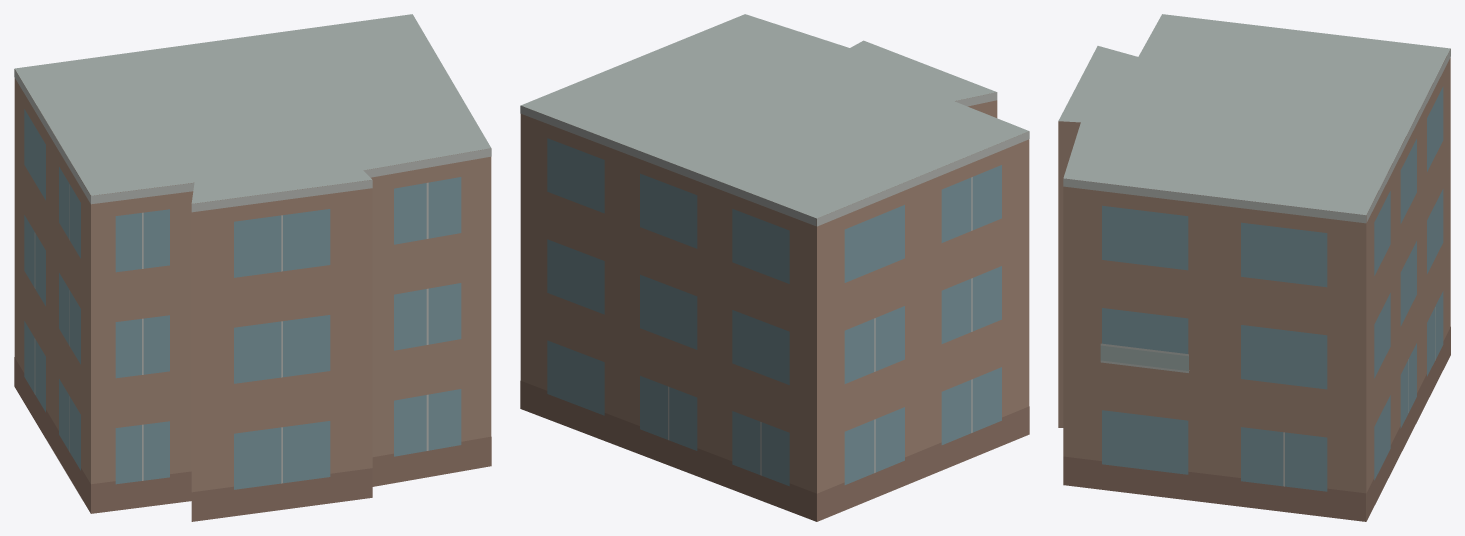
Rendered from survey-upis-32532660.glb.
3 renders of one model, left to right at view 1: azimuth 30°, elevation 25°; view 2: azimuth 150°, elevation 25°; view 3: azimuth 270°, elevation 25°, orthographic. The views are drawn at different scales.
Parts seen in each view (by area): view 1: survey-upis-32532660.tmp; view 2: survey-upis-32532660.tmp; view 3: survey-upis-32532660.tmp.
Boxes of the visible parts, x1=… form: survey-upis-32532660.tmp: x1=14, y1=14, x2=491, y2=521; survey-upis-32532660.tmp: x1=520, y1=14, x2=1029, y2=521; survey-upis-32532660.tmp: x1=1058, y1=14, x2=1450, y2=521.
Size of the model in its own units: 12.88 by 9.15 by 10.62.
